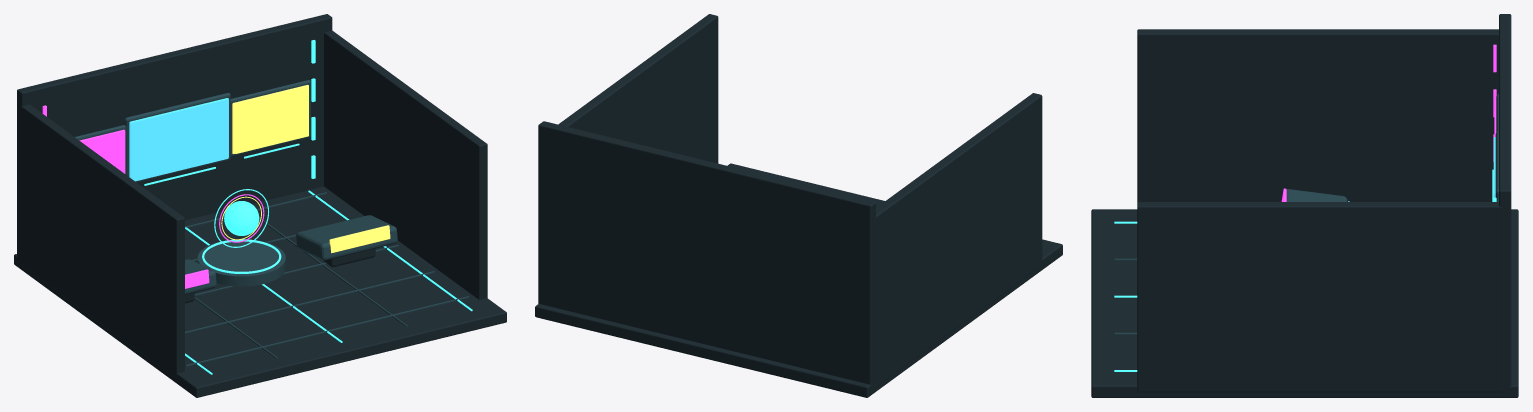
File: nexus-control-room.glb
3 renders of one model, left to right at view 1: azimuth 30°, elevation 25°; view 2: azimuth 150°, elevation 25°; view 3: azimuth 270°, elevation 25°, orthographic. The views are drawn at different scales.
Visible parts, largest first — view 1: Nexus_Floor, Nexus_LeftWall, Nexus_RightWall, Nexus_BackWall, Screen_User, Screen_Agent_Right, HoloBase, OperatorConsole_3.2, Screen_User_Frame, Nexus_Hologram, Screen_Agent_Left, ConsoleGlow_3.2 (+8 smaller); view 2: Nexus_BackWall, Nexus_LeftWall, Nexus_RightWall, Nexus_Floor; view 3: Nexus_RightWall, Nexus_LeftWall, Nexus_Floor, Nexus_BackWall, OperatorConsole_-3.2.
Boxes of the visible parts, x1=… form: Nexus_Floor: x1=14, y1=186, x2=506, y2=397; Nexus_LeftWall: x1=20, y1=104, x2=184, y2=378; Nexus_RightWall: x1=324, y1=30, x2=487, y2=299; Nexus_BackWall: x1=17, y1=14, x2=332, y2=261; Screen_User: x1=133, y1=101, x2=228, y2=181; Screen_Agent_Right: x1=235, y1=87, x2=308, y2=153; HoloBase: x1=197, y1=239, x2=285, y2=286; OperatorConsole_3.2: x1=296, y1=215, x2=397, y2=260; Screen_User_Frame: x1=124, y1=93, x2=230, y2=182; Nexus_Hologram: x1=224, y1=201, x2=259, y2=235; Screen_Agent_Left: x1=82, y1=132, x2=125, y2=173; ConsoleGlow_3.2: x1=329, y1=225, x2=390, y2=253; Nexus_BackWall: x1=538, y1=121, x2=875, y2=387; Nexus_LeftWall: x1=875, y1=93, x2=1042, y2=387; Nexus_RightWall: x1=558, y1=14, x2=718, y2=163; Nexus_Floor: x1=535, y1=163, x2=1062, y2=397; Nexus_RightWall: x1=1137, y1=202, x2=1502, y2=392; Nexus_LeftWall: x1=1137, y1=29, x2=1498, y2=202; Nexus_Floor: x1=1091, y1=209, x2=1518, y2=397; Nexus_BackWall: x1=1499, y1=14, x2=1511, y2=389; OperatorConsole_-3.2: x1=1286, y1=189, x2=1347, y2=201.
Size of the model in its own units: 11.02 by 6.01 by 11.2.
